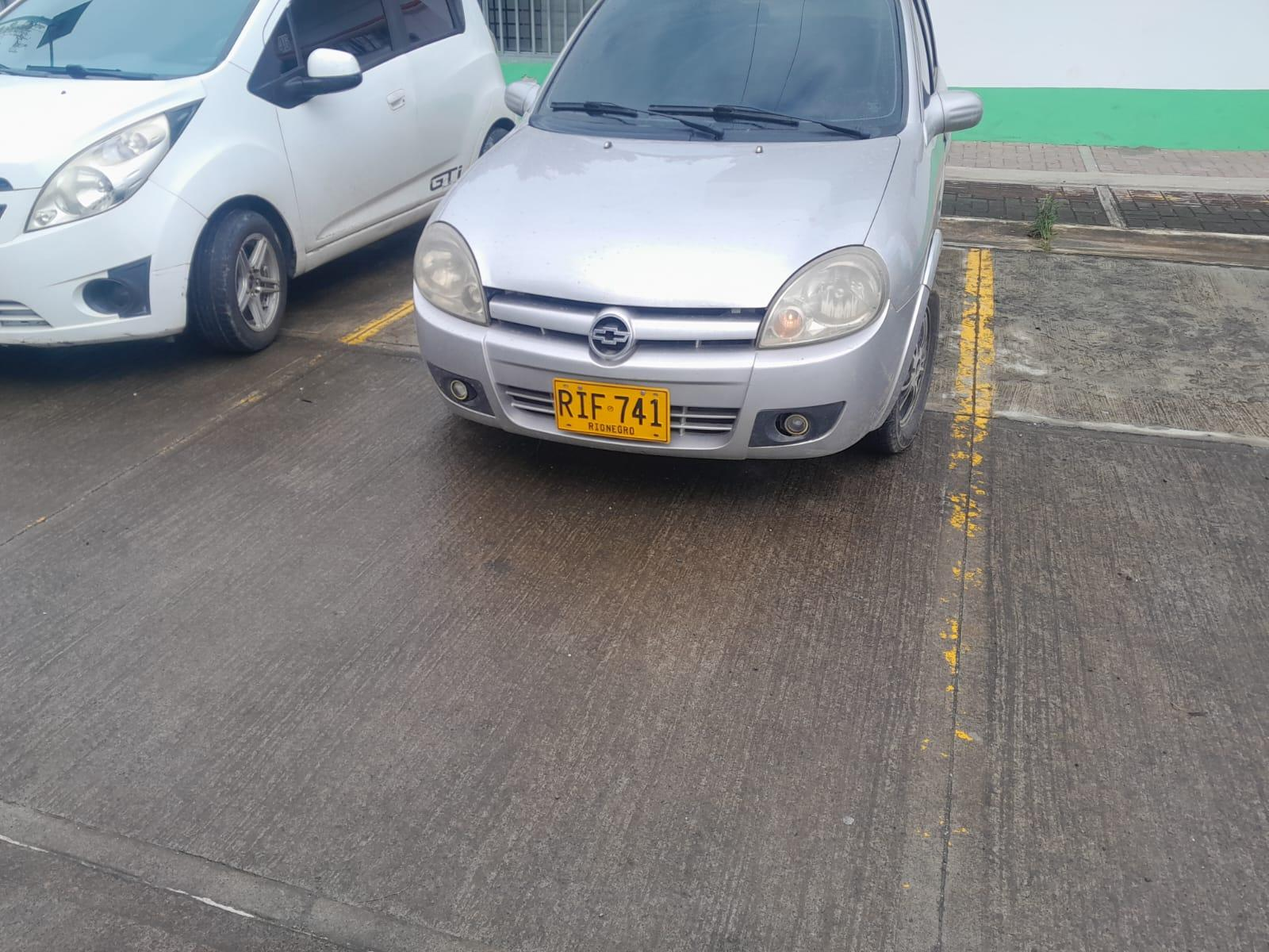placa: (547, 378, 669, 443)
